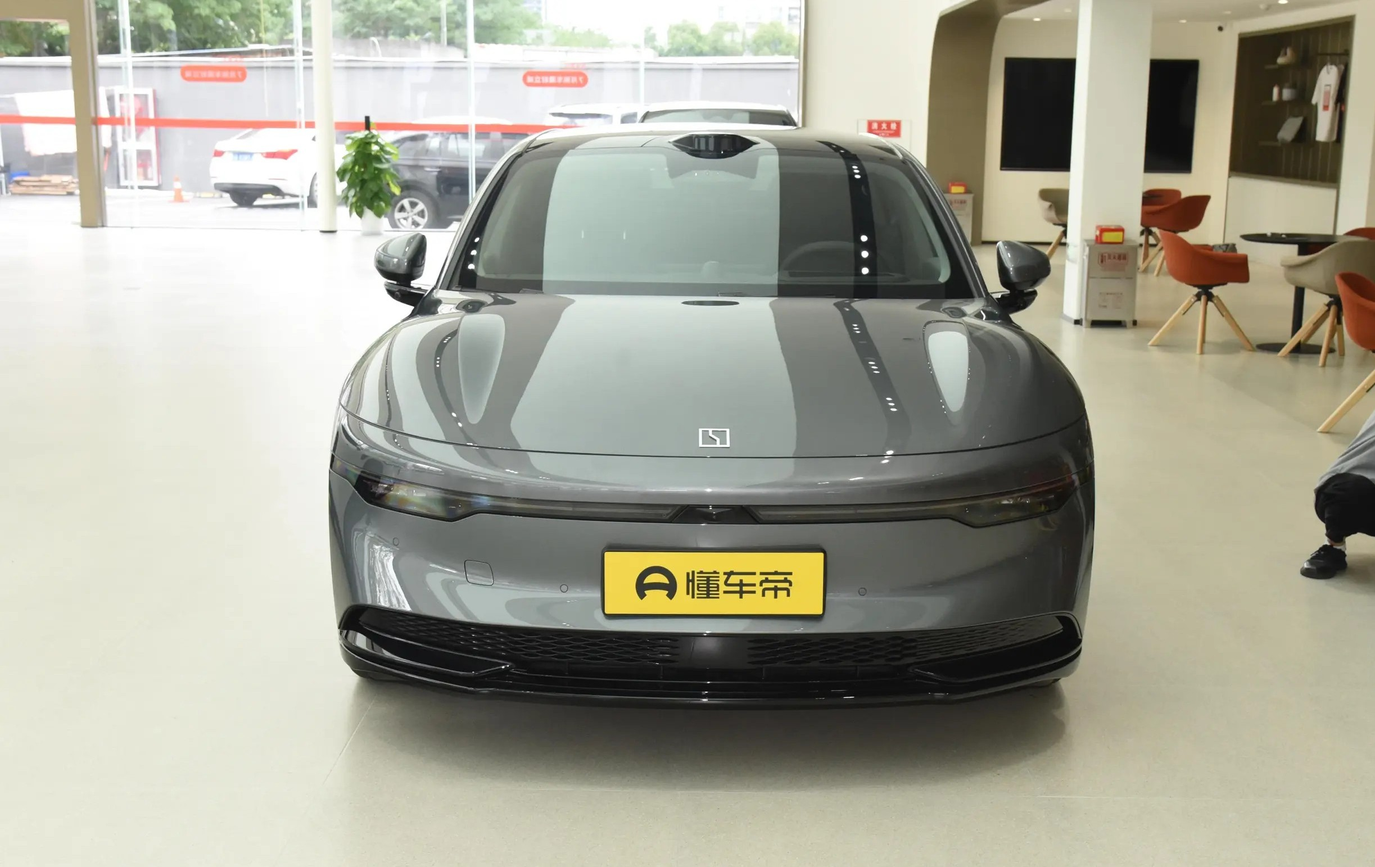ZEEKR: (699, 428, 729, 447)
